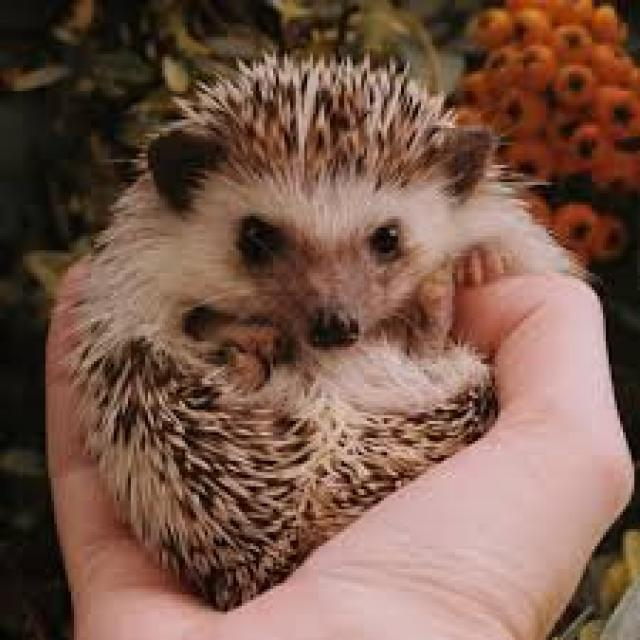Hedgehog: (63, 35, 509, 603)
